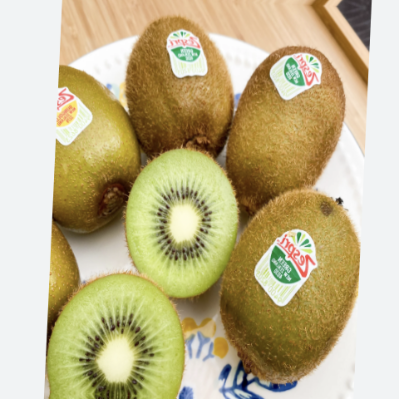kiwi: (200, 169, 371, 386), (225, 24, 348, 229), (110, 8, 245, 170)
